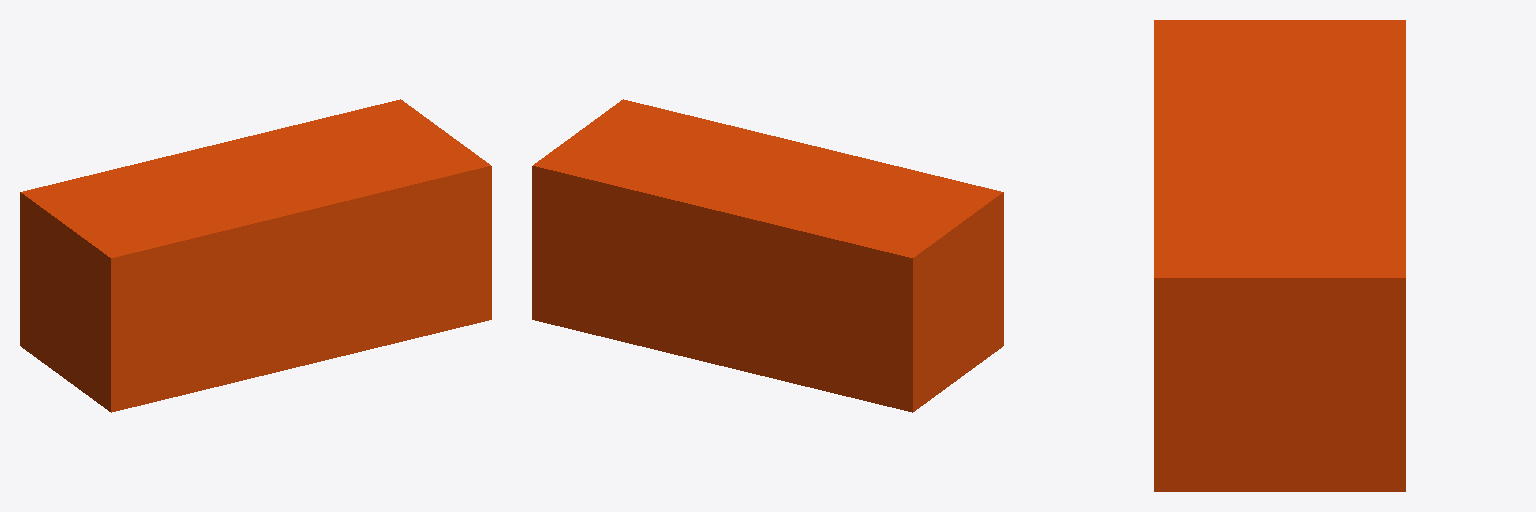
robot.urdf — target_box:
<?xml version="1.0" encoding="utf-8"?>
<robot name="target_box">
  <link name="base_link">
    <inertial>
      <mass value="0" />
      <inertia ixx="0" ixy="0" ixz="0" iyy="0" iyz="0" izz="0" />
    </inertial>
    <visual name="box">
      <origin xyz="0 0 0.775" rpy="0 0 0" />
      <geometry><box size="4 1.65 1.55" /></geometry>
      <material name="orange"><color rgba="0.9 0.35 0.08 1" /></material>
    </visual>
    <collision name="box">
      <origin xyz="0 0 0.775" rpy="0 0 0" />
      <geometry><box size="4 1.65 1.55" /></geometry>
    </collision>
  </link>
</robot>

--- What the picture shows (computed from the rendered views, not written in the file) ---
Views: 3 orthographic renders of the robot side by side, from view 1: azimuth 30°, elevation 25°; view 2: azimuth 150°, elevation 25°; view 3: azimuth 270°, elevation 25°.
Robot: target_box — 1 links, 0 joints (none); root link base_link; default pose: all joints at 0.
Links seen in each view (by area): view 1: base_link; view 2: base_link; view 3: base_link.
Link boxes in pixels (box(x1,y1,x2,y2)): base_link: box(20, 99, 491, 412); base_link: box(532, 99, 1003, 412); base_link: box(1154, 20, 1405, 491).
Size in the robot's own frame: 4 by 1.65 by 1.55 metres.
Geometry: primitives only (box / cylinder / sphere), no mesh files.
